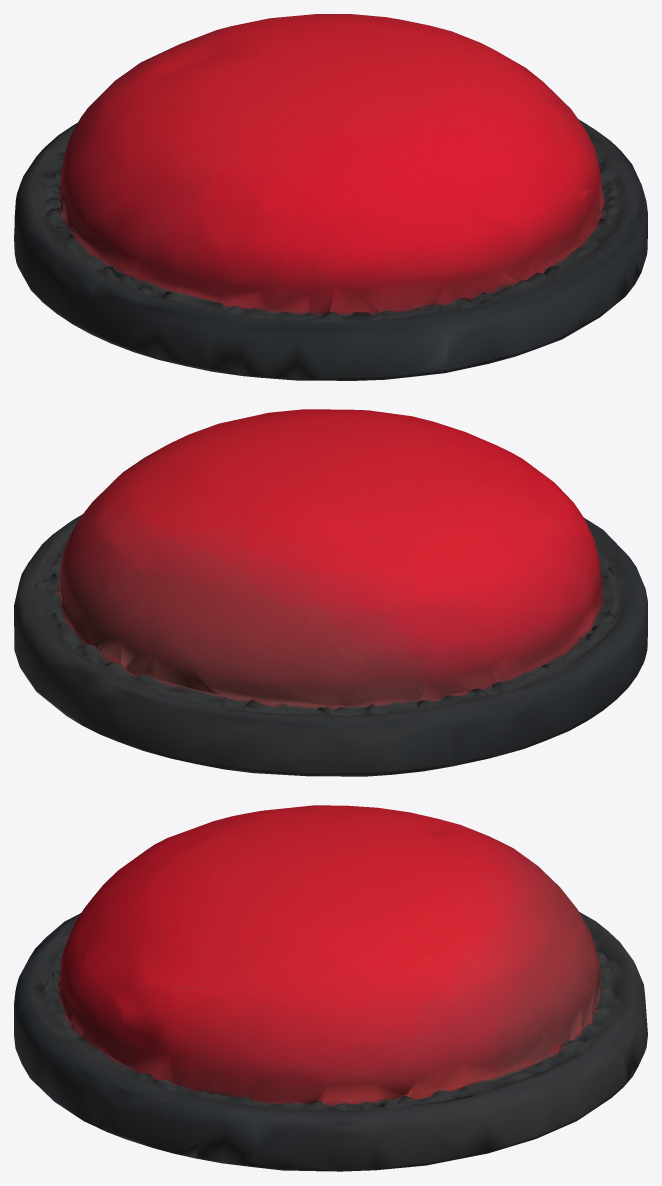
File: Meshy_AI_Make_a_green_button_f_0905181801_texture.fbx
The picture shows the model from 3 angles, top to bottom: view 1: azimuth 30°, elevation 25°; view 2: azimuth 150°, elevation 25°; view 3: azimuth 270°, elevation 25°; orthographic projection.
Parts seen in each view (by area): view 1: mesh_node; view 2: mesh_node; view 3: mesh_node.
Part boxes in pixels (x1=…): mesh_node: x1=14, y1=14, x2=647, y2=380; mesh_node: x1=14, y1=409, x2=647, y2=776; mesh_node: x1=14, y1=805, x2=647, y2=1171.
Size of the model in its own units: 191 by 63.57 by 191.
Materials: 1 (1 with a texture image).
